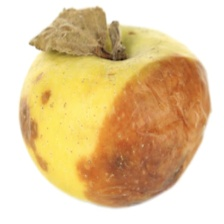apple: (10, 2, 180, 177)
